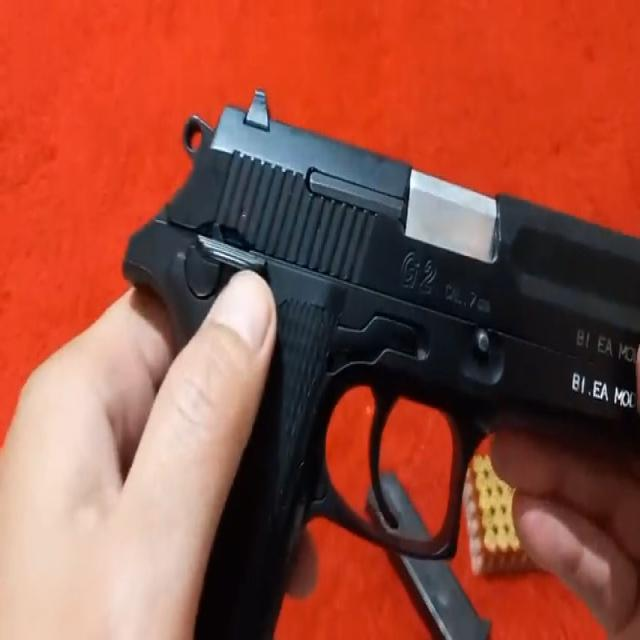handgun: (117, 90, 640, 640)
